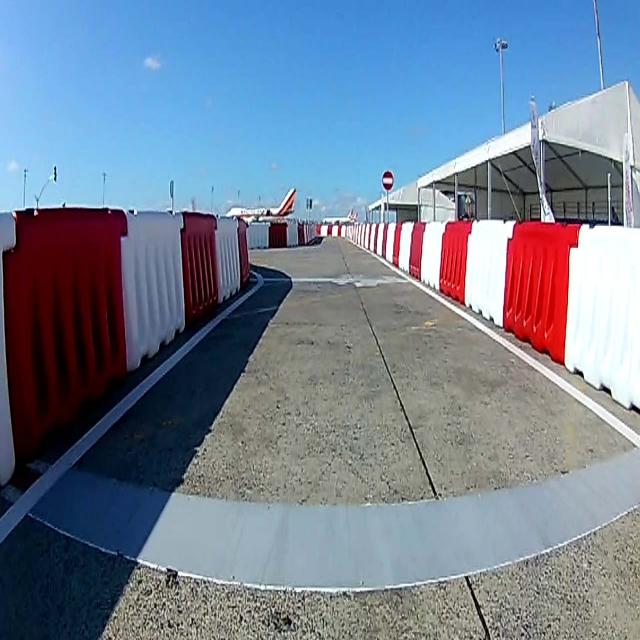girisyok: (381, 169, 394, 192)
